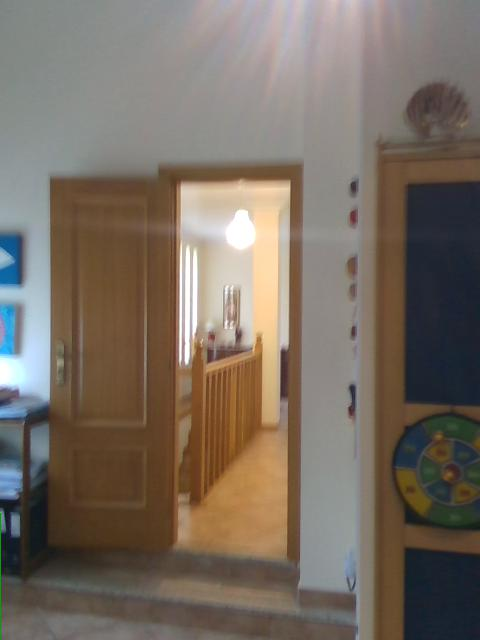open_door: (155, 159, 305, 569)
